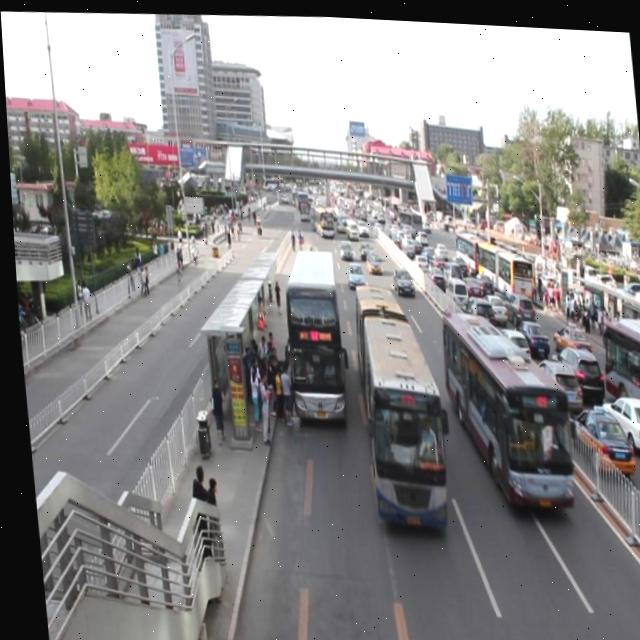car: (387, 260, 410, 293), (342, 256, 360, 287), (361, 247, 377, 271), (335, 236, 349, 255), (352, 216, 365, 235), (331, 211, 342, 232), (354, 237, 367, 254)
truck: (342, 216, 354, 237)
van: (437, 303, 568, 508), (349, 279, 444, 533), (278, 247, 341, 422), (309, 202, 330, 234)
